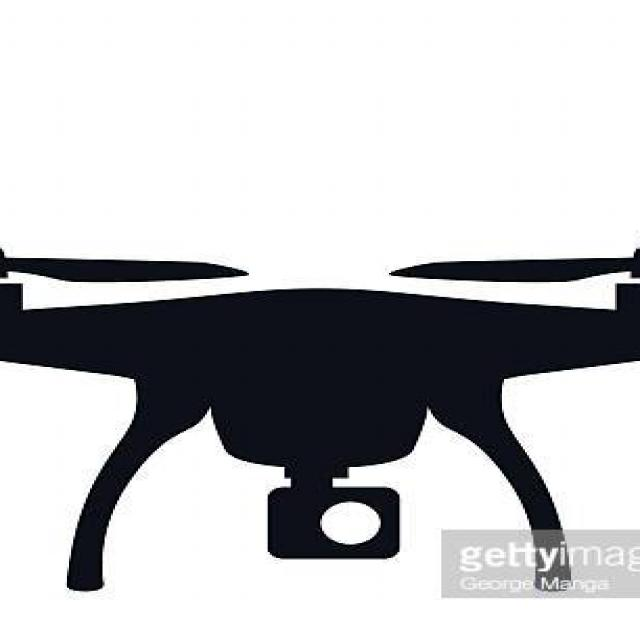drone: (0, 214, 640, 502)
